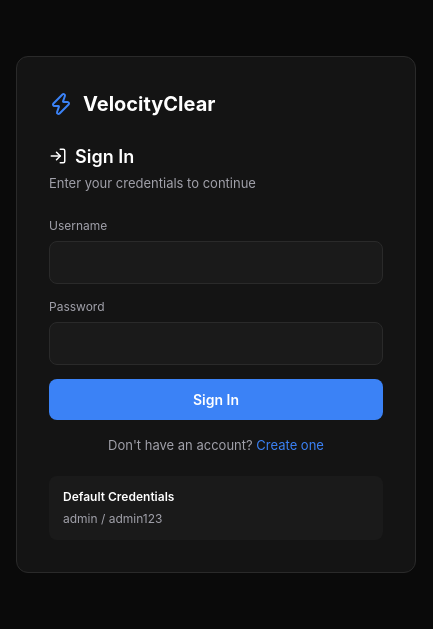
Test: LoginPage › toggles to register form
Click the button "Create one" at coordinates (290, 446), box left=256, top=436, right=324, bottom=456
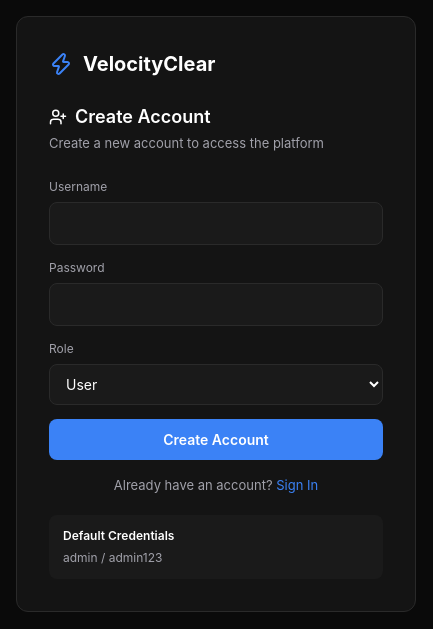
Expected: the heading "Create Account" is shown, left=49, top=106, right=211, bottom=127
